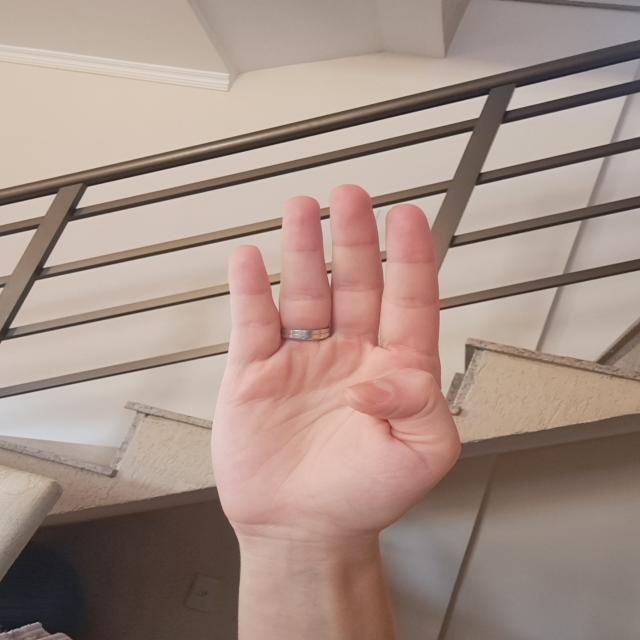B: (204, 180, 460, 528)
